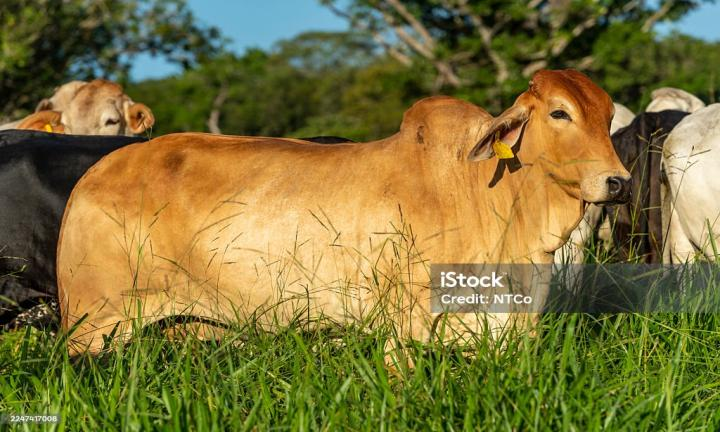Brahman: (56, 70, 631, 352), (57, 70, 631, 352)
